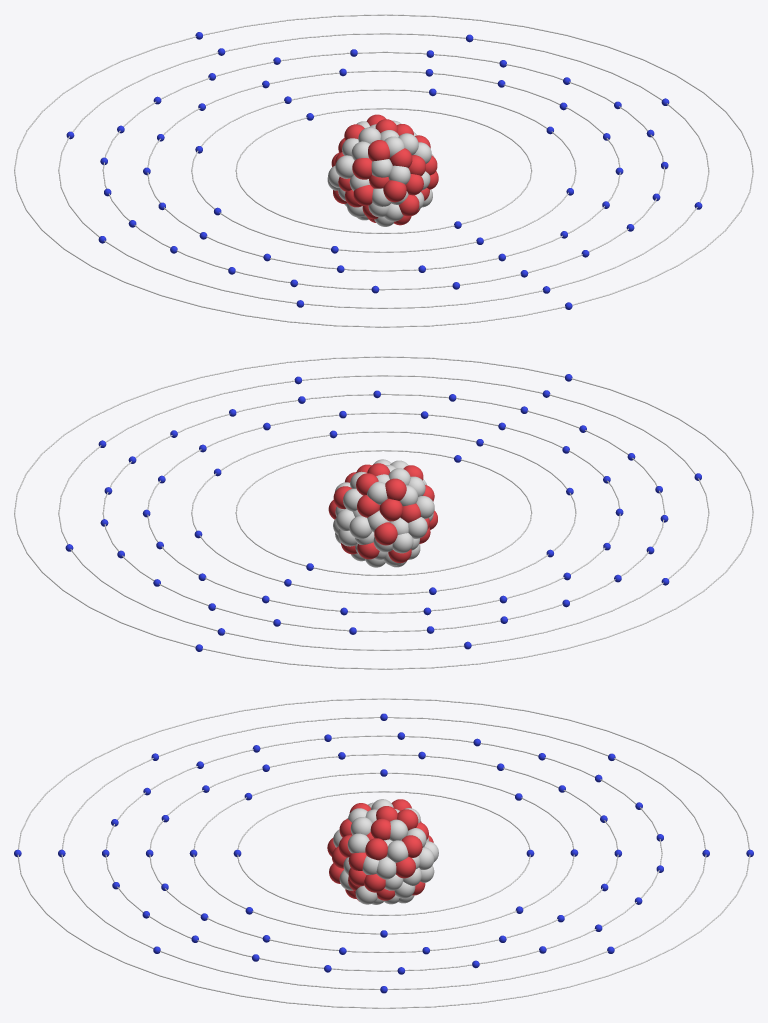
File: Promethium.glb
3 views of the same model, one above another, from view 1: azimuth 30°, elevation 25°; view 2: azimuth 150°, elevation 25°; view 3: azimuth 270°, elevation 25° (orthographic).
Parts seen in each view (by area): view 1: P-Schale, O-Schale, N-Schale, M-Schale, L-Schale, K-Schale; view 2: P-Schale, O-Schale, N-Schale, M-Schale, L-Schale, K-Schale; view 3: P-Schale, O-Schale, N-Schale, M-Schale, L-Schale, K-Schale.
Part boxes in pixels (left/top/right/bottom): P-Schale: left=14, top=14, right=753, bottom=327; O-Schale: left=58, top=33, right=709, bottom=308; N-Schale: left=102, top=51, right=665, bottom=290; M-Schale: left=147, top=70, right=620, bottom=271; L-Schale: left=191, top=89, right=576, bottom=252; K-Schale: left=235, top=108, right=532, bottom=233; P-Schale: left=14, top=356, right=753, bottom=669; O-Schale: left=58, top=375, right=709, bottom=650; N-Schale: left=102, top=393, right=665, bottom=632; M-Schale: left=147, top=412, right=620, bottom=613; L-Schale: left=191, top=431, right=576, bottom=594; K-Schale: left=235, top=450, right=532, bottom=575; P-Schale: left=17, top=698, right=750, bottom=1008; O-Schale: left=61, top=717, right=706, bottom=989; N-Schale: left=105, top=735, right=662, bottom=971; M-Schale: left=149, top=754, right=618, bottom=952; L-Schale: left=193, top=772, right=574, bottom=934; K-Schale: left=237, top=791, right=530, bottom=915.
Bounding box in the file's own units: 25.04 × 3.61 × 25.26.
